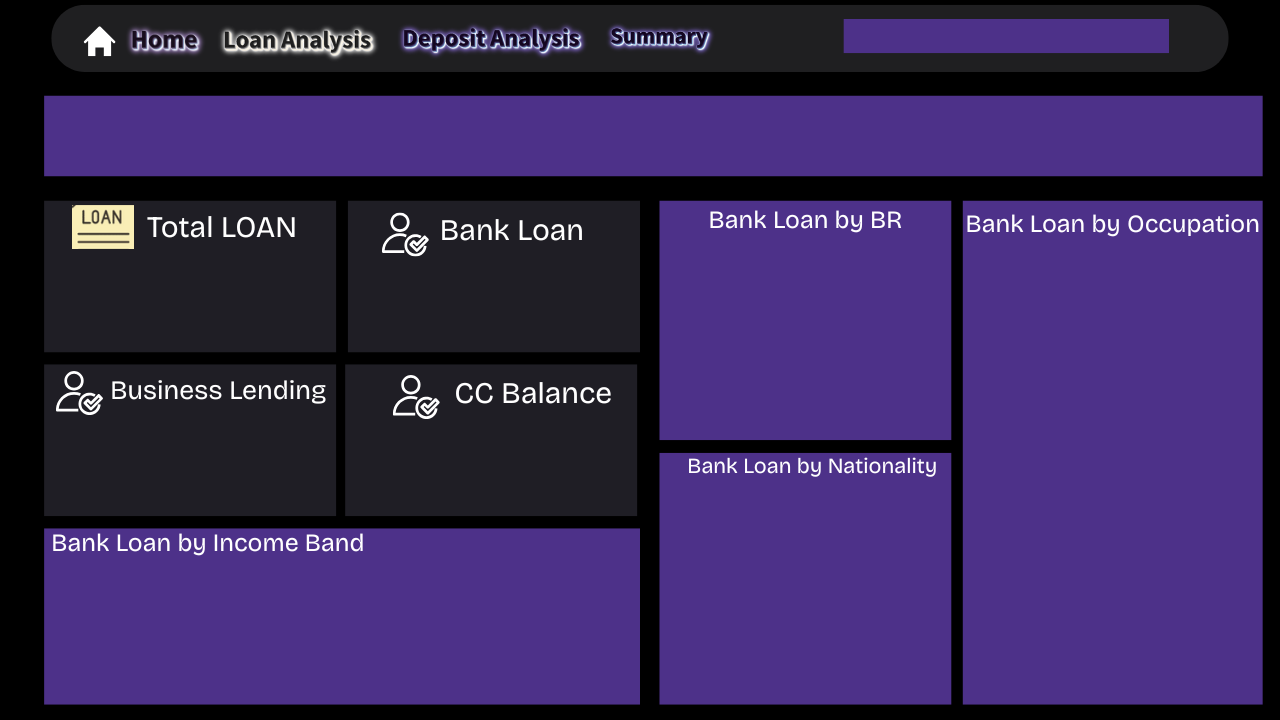

This screenshot's page, from the dashboard's own definition file:
{"tool":"powerbi","page":{"name":"Loan Analysis","canvas":[1280,720],"ordinal":1},"visuals":[{"type":"slicer","fields":{"Values":["Banking.Year of joining"]},"box":[813.3,11.7,385,53.3],"z":0},{"type":"actionButton","box":[121.7,18.3,93.3,46.7],"z":1000},{"type":"actionButton","box":[385,18.3,210,40],"z":2000},{"type":"actionButton","box":[595,18.3,126.7,40],"z":3000},{"type":"cardVisual","fields":{"Data":["Banking.Total Loan Amount"]},"box":[68.8,178.2,332.9,215.7],"z":4000},{"type":"cardVisual","fields":{"Data":["Sum(Banking.Bank Loans)"]},"box":[364.2,182.9,293.8,211],"z":5000},{"type":"cardVisual","fields":{"Data":["Sum(Banking.Business Lending)"]},"box":[68.8,339.2,293.8,211],"z":6000},{"type":"cardVisual","fields":{"Data":["Sum(Banking.Credit Card Balance)"]},"box":[384.5,339.2,293.8,211],"z":7000},{"type":"donutChart","fields":{"Category":["Banking.Income Band"],"Y":["Sum(Banking.Bank Loans)"]},"box":[45.3,562.7,593.9,137.5],"z":8000},{"type":"treemap","fields":{"Group":["Banking.BRId"],"Values":["Sum(Banking.Bank Loans)"]},"box":[658,240.7,290.7,196.9],"z":9000},{"type":"columnChart","fields":{"Y":["Sum(Banking.Bank Loans)"],"Category":["Banking.Nationality"]},"box":[658,487.7,290.7,212.6],"z":10000},{"type":"barChart","fields":{"Category":["Banking.Occupation"],"Y":["Sum(Banking.Bank Loans)"]},"box":[969.1,240.7,289.2,461.1],"z":11000},{"type":"slicer","fields":{"Values":["Banking.BRId"]},"box":[53.1,101.6,497,59.4],"z":12000},{"type":"slicer","fields":{"Values":["Banking.GenderId"]},"box":[572.1,101.6,309.5,59.4],"z":13000},{"type":"slicer","fields":{"Values":["Banking.IAId"]},"box":[898.7,101.6,340.7,59.4],"z":14000}]}

Visuals, with their boxes on the page's 1280x720 design canvas (x1, y1, x2, y2). These are canvas units, not pixel positions in the 1280x720 screenshot, which may show the page scaled, cropped or inside an application window:
slicer - Banking.Year of joining: [left=813, top=12, right=1198, bottom=65]
actionButton: [left=122, top=18, right=215, bottom=65]
actionButton: [left=385, top=18, right=595, bottom=58]
actionButton: [left=595, top=18, right=722, bottom=58]
cardVisual - Banking.Total Loan Amount: [left=69, top=178, right=402, bottom=394]
cardVisual - Sum(Banking.Bank Loans): [left=364, top=183, right=658, bottom=394]
cardVisual - Sum(Banking.Business Lending): [left=69, top=339, right=363, bottom=550]
cardVisual - Sum(Banking.Credit Card Balance): [left=384, top=339, right=678, bottom=550]
donutChart - Banking.Income Band x Sum(Banking.Bank Loans): [left=45, top=563, right=639, bottom=700]
treemap - Banking.BRId x Sum(Banking.Bank Loans): [left=658, top=241, right=949, bottom=438]
columnChart - Sum(Banking.Bank Loans) x Banking.Nationality: [left=658, top=488, right=949, bottom=700]
barChart - Banking.Occupation x Sum(Banking.Bank Loans): [left=969, top=241, right=1258, bottom=702]
slicer - Banking.BRId: [left=53, top=102, right=550, bottom=161]
slicer - Banking.GenderId: [left=572, top=102, right=882, bottom=161]
slicer - Banking.IAId: [left=899, top=102, right=1239, bottom=161]
